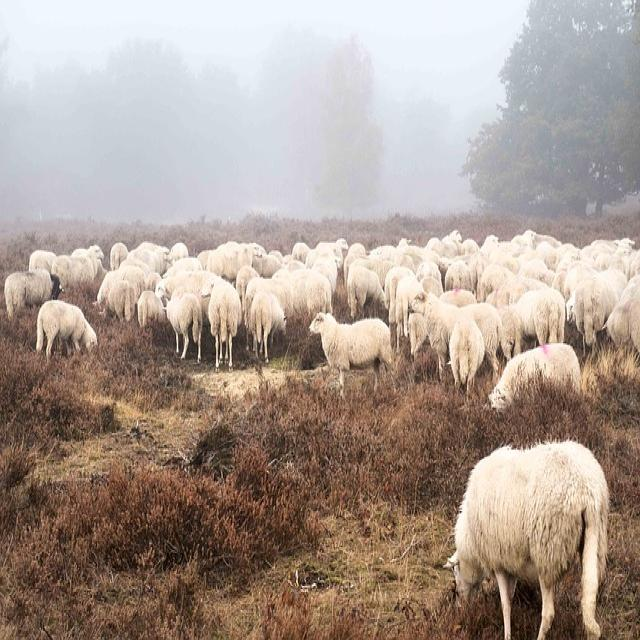goat: (449, 441, 610, 640), (489, 343, 583, 411), (312, 315, 392, 390), (1, 256, 71, 334), (33, 298, 96, 360), (165, 294, 204, 360)
